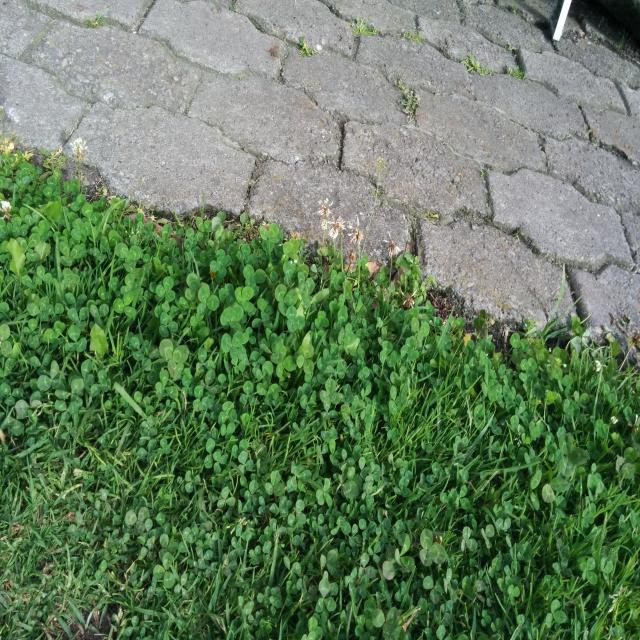Four Leaf Clover: (481, 372, 499, 401)
